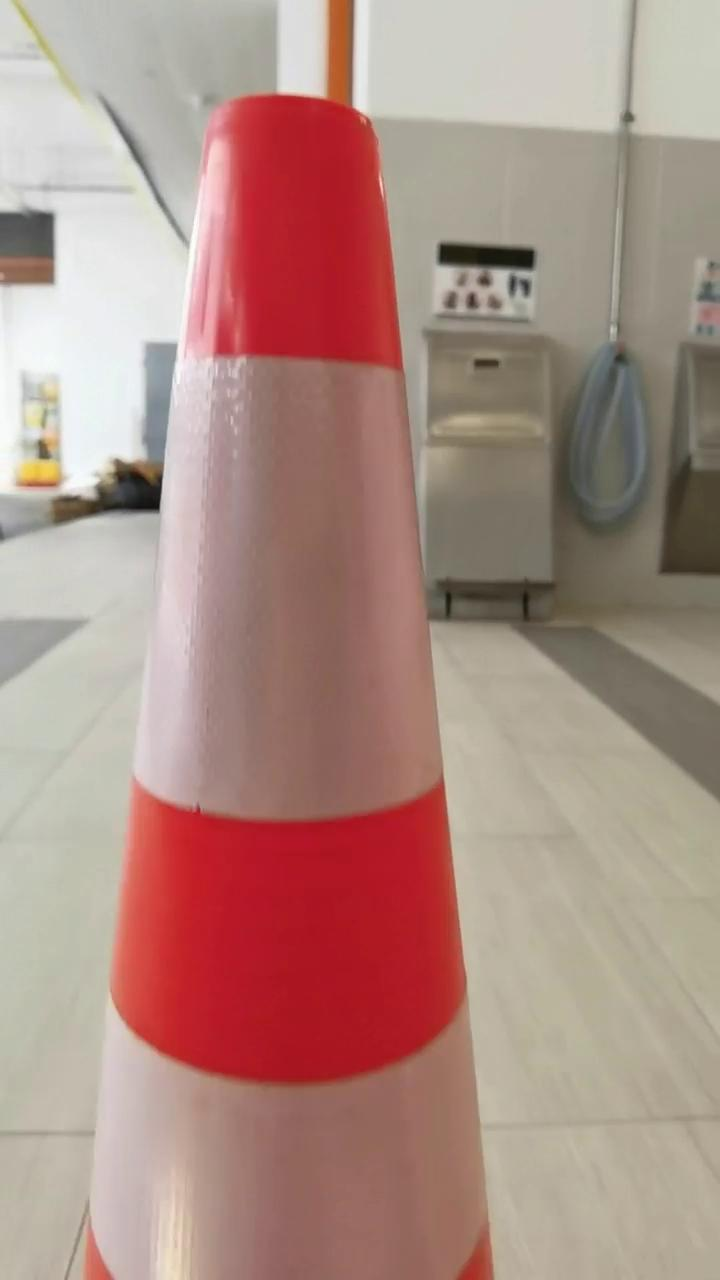traffic cone: (77, 93, 507, 1280)
